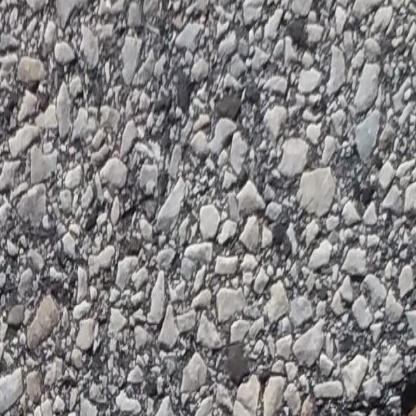Cracks: (378, 377, 416, 416)
